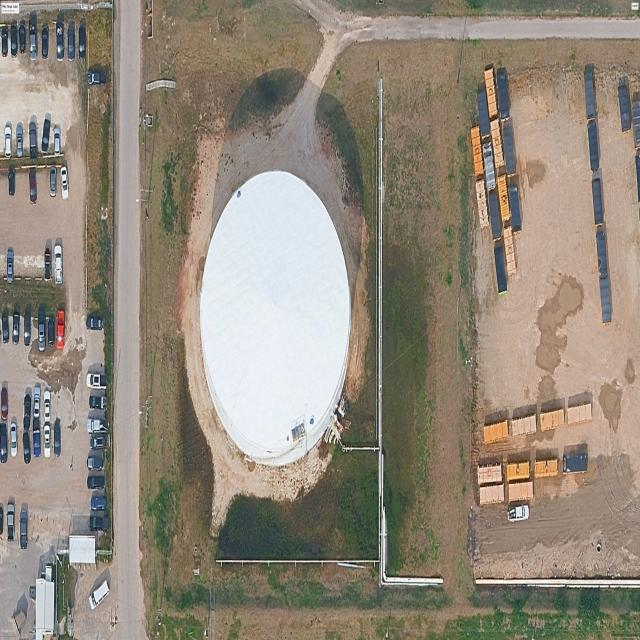Oil Rafinery: (200, 171, 351, 465)
